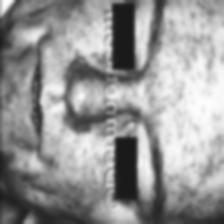Non-Cancerous Skin Condition: (163, 18, 224, 195), (0, 64, 15, 132)
